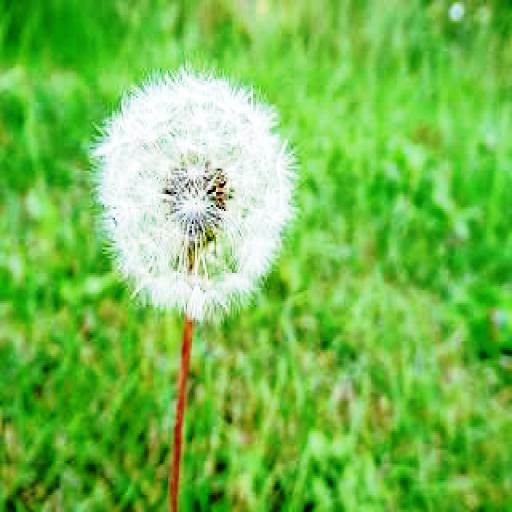dandelion: (99, 71, 296, 322)
